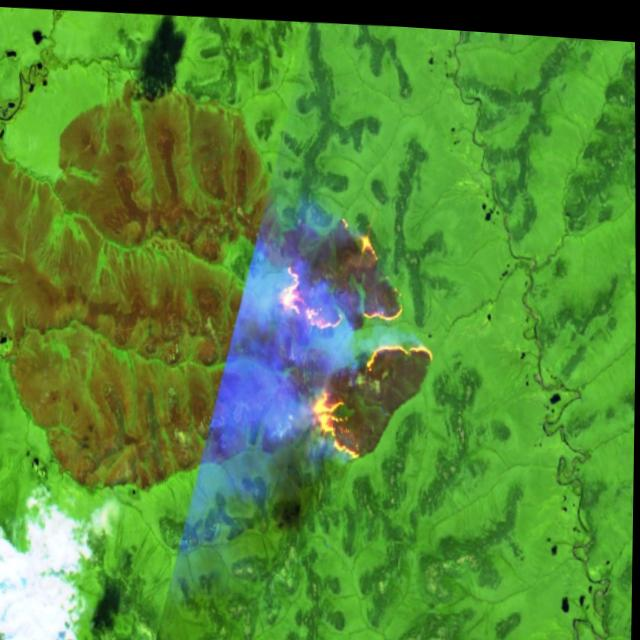fire: (264, 203, 435, 469)
